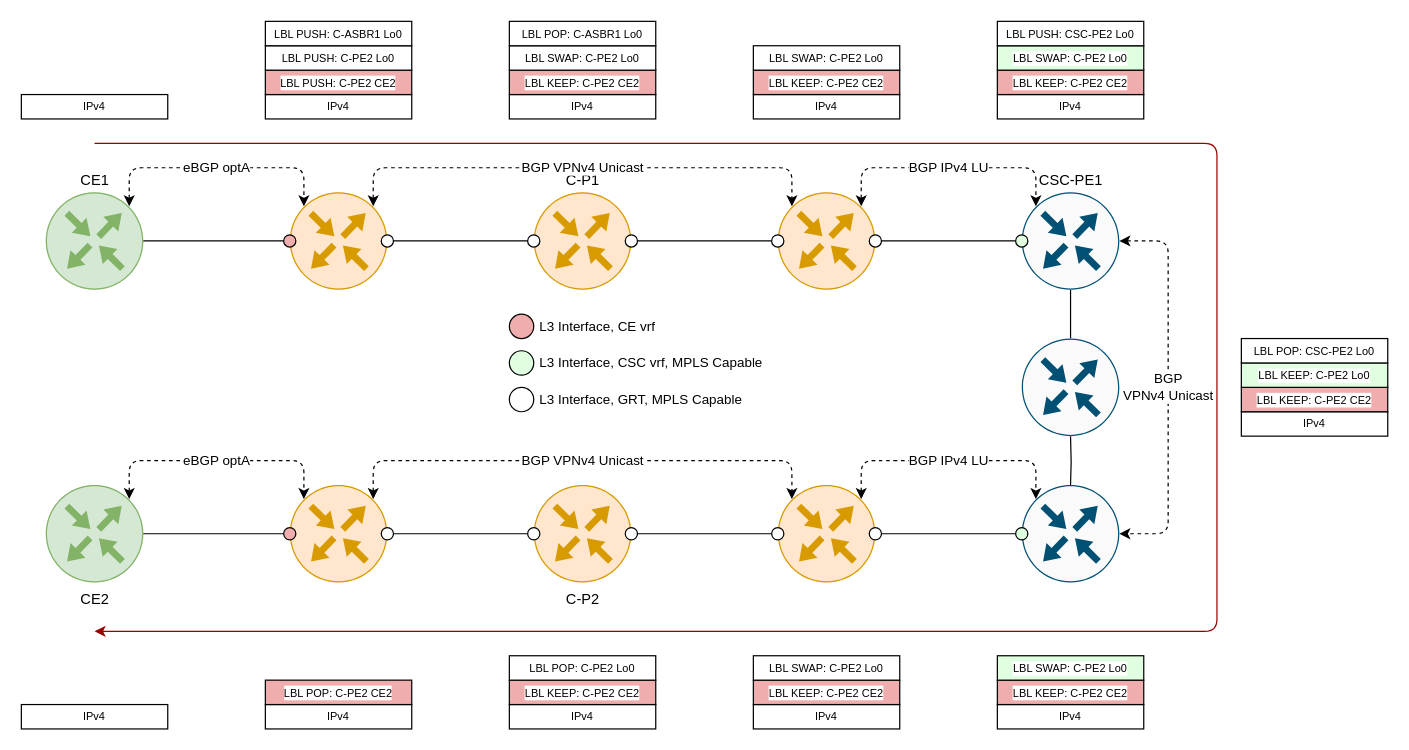
Image size: 1409x750. Some labels were removed from this diagram. The box of each missing label's shape, as (x1, y1, x2, y2) in pixels:
C-ASBR1: (777, 191, 875, 290)
C-ASBR2: (777, 484, 875, 583)
C-PE1: (289, 191, 387, 290)
C-PE2: (289, 484, 387, 583)
CSC-P1: (1021, 337, 1119, 436)
CSC-PE2: (1021, 484, 1119, 583)
